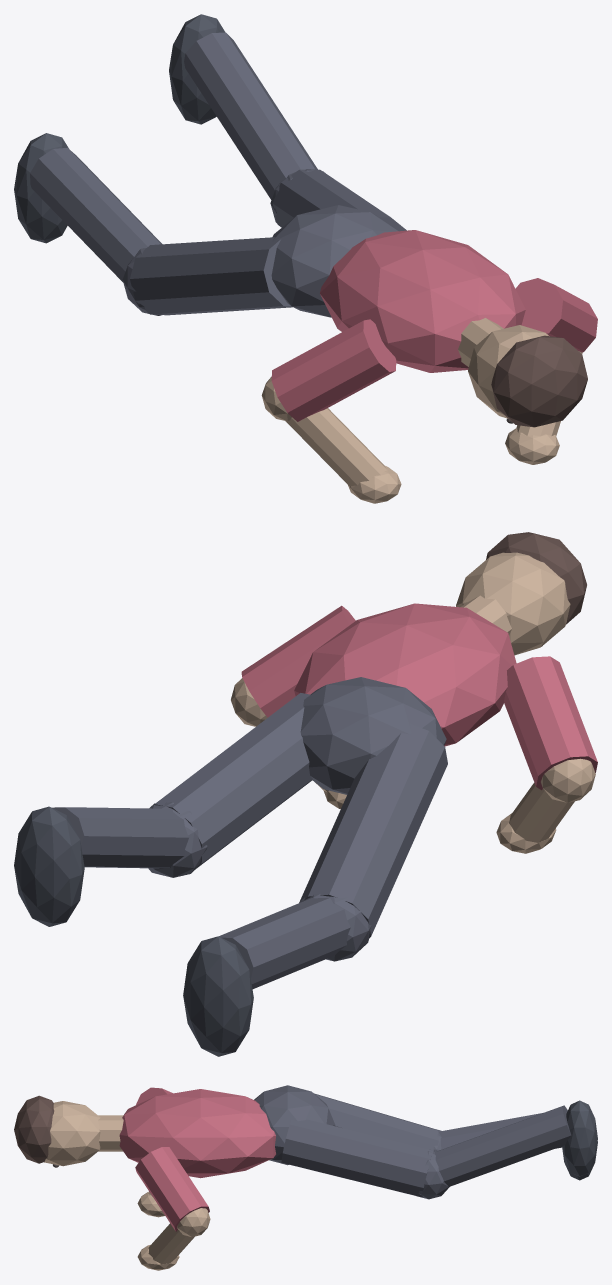
3 views of the same model, one above another, from view 1: azimuth 30°, elevation 25°; view 2: azimuth 150°, elevation 25°; view 3: azimuth 270°, elevation 25° (orthographic). The views are drawn at different scales.
Parts seen in each view (by area): view 1: world; view 2: world; view 3: world.
Boxes of the visible parts, box(x1,y1,x2,y2) form: world: box(14, 14, 597, 503); world: box(14, 532, 597, 1056); world: box(14, 1085, 597, 1270).
Size of the model in its own units: 0.93 by 0.625 by 2.08.
